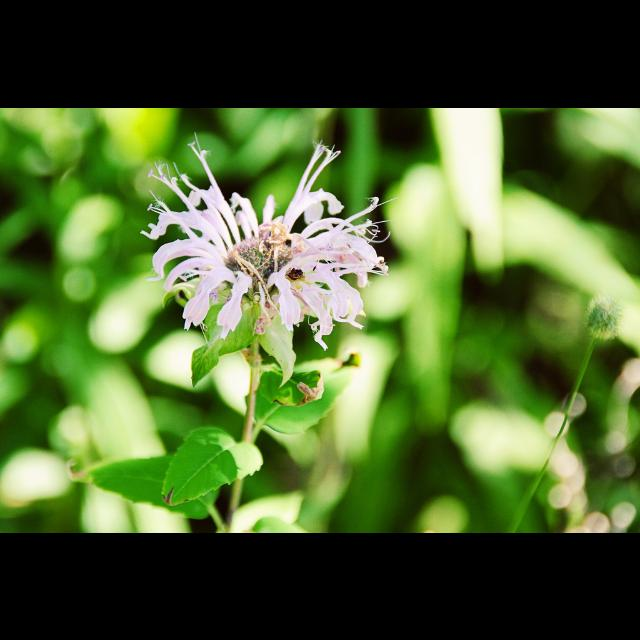Flower: (146, 153, 388, 377)
